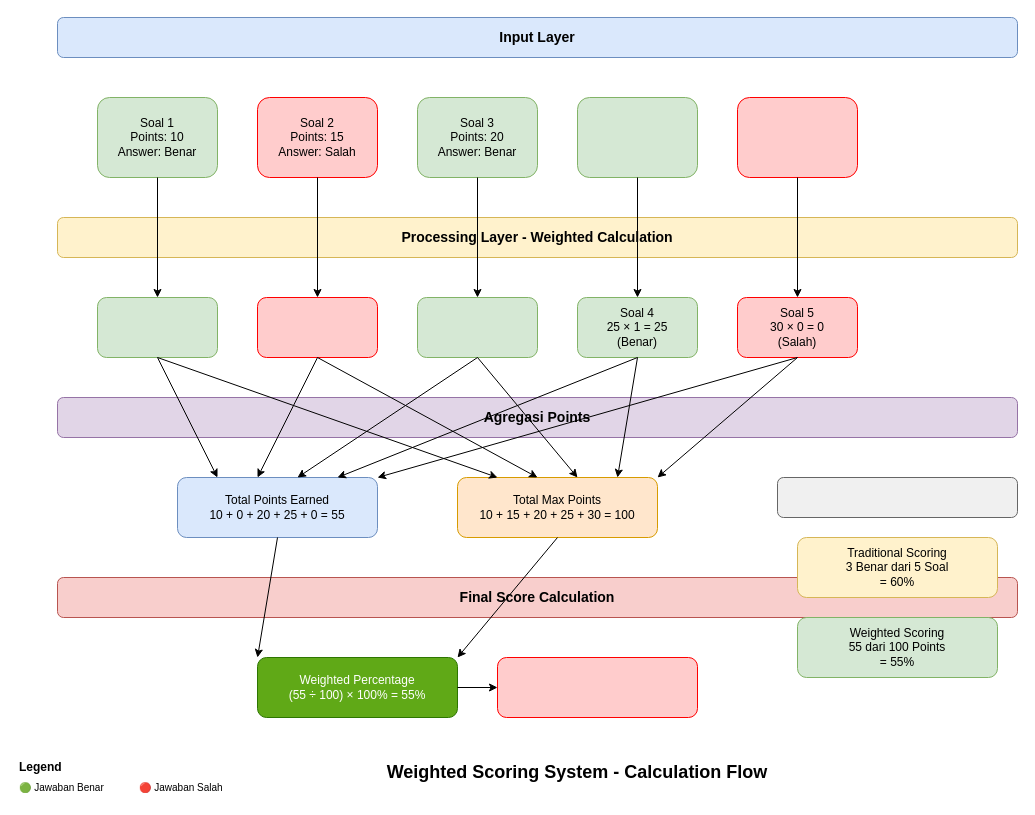
Some shapes in this 1035 by 815 pixel diagram are drawn without their labels. The box of each missing label's shape, as (x1, y1, x2, y2) in pixels:
Pass/Fail Status 55% ≥ 70% = FAIL (Passing Score: 70%): (496, 656, 698, 718)
Perbandingan dengan Traditional Scoring: (776, 476, 1018, 518)
Soal 1 10 × 1 = 10 (Benar): (96, 296, 218, 358)
Soal 2 15 × 0 = 0 (Salah): (256, 296, 378, 358)
Soal 3 20 × 1 = 20 (Benar): (416, 296, 538, 358)
Soal 4 Points: 25 Answer: Benar: (576, 96, 698, 178)
Soal 5 Points: 30 Answer: Salah: (736, 96, 858, 178)
